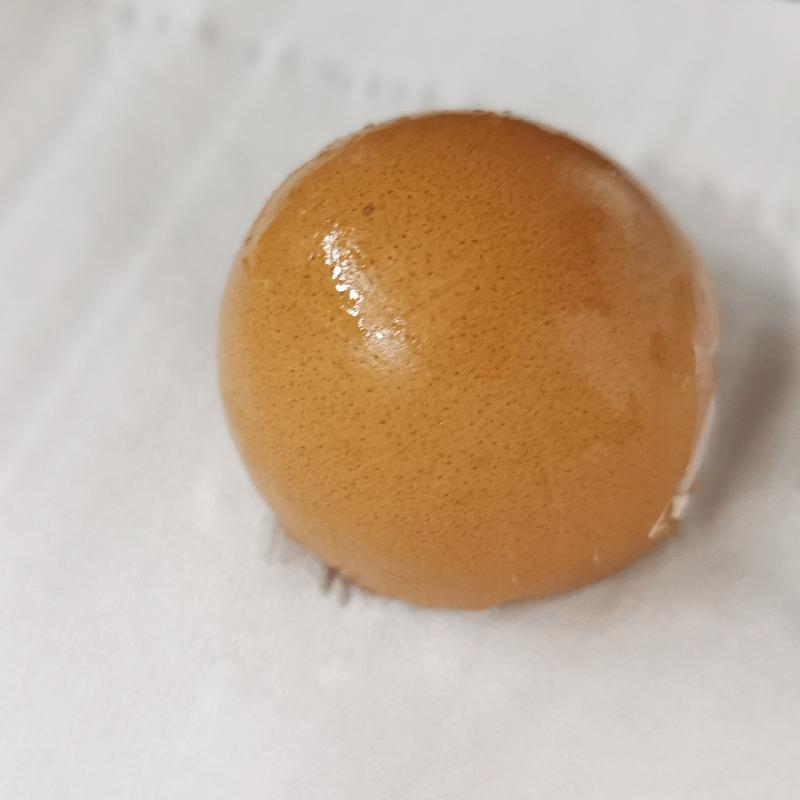eggshell: (211, 108, 721, 609)
